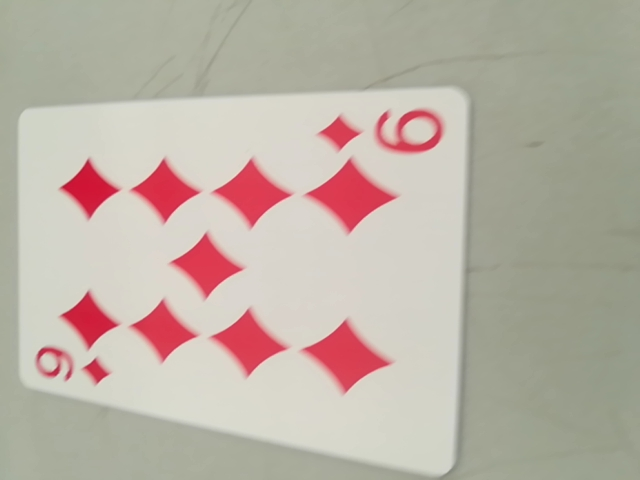fk 9: (317, 98, 450, 165), (20, 339, 119, 395)
